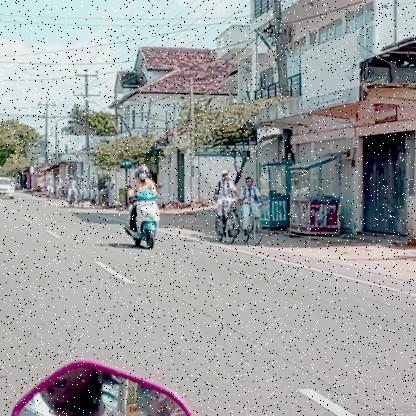motorcycle: (118, 188, 170, 254)
